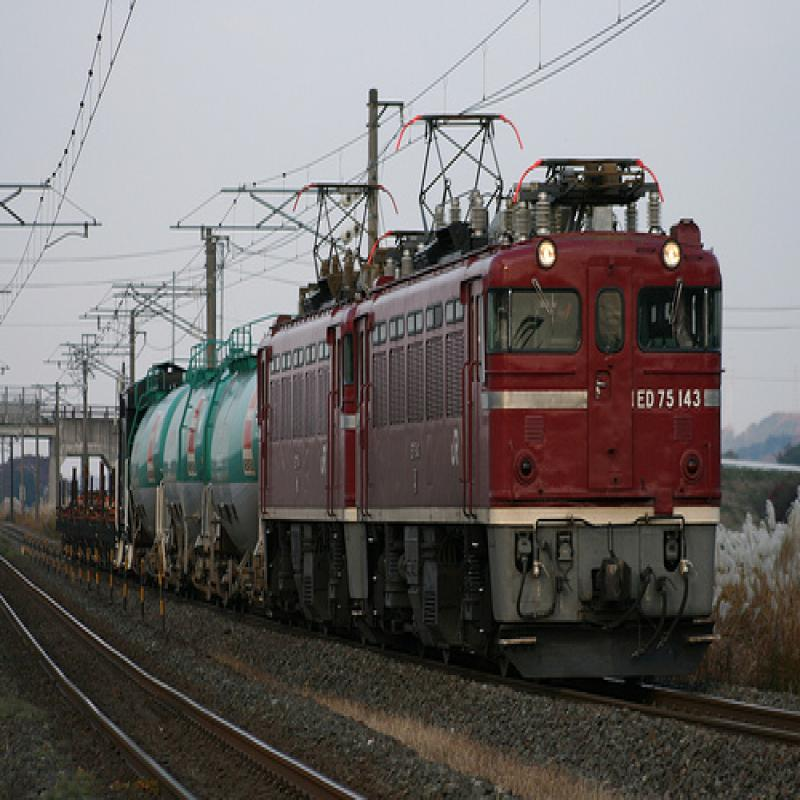train: (59, 114, 726, 683)
